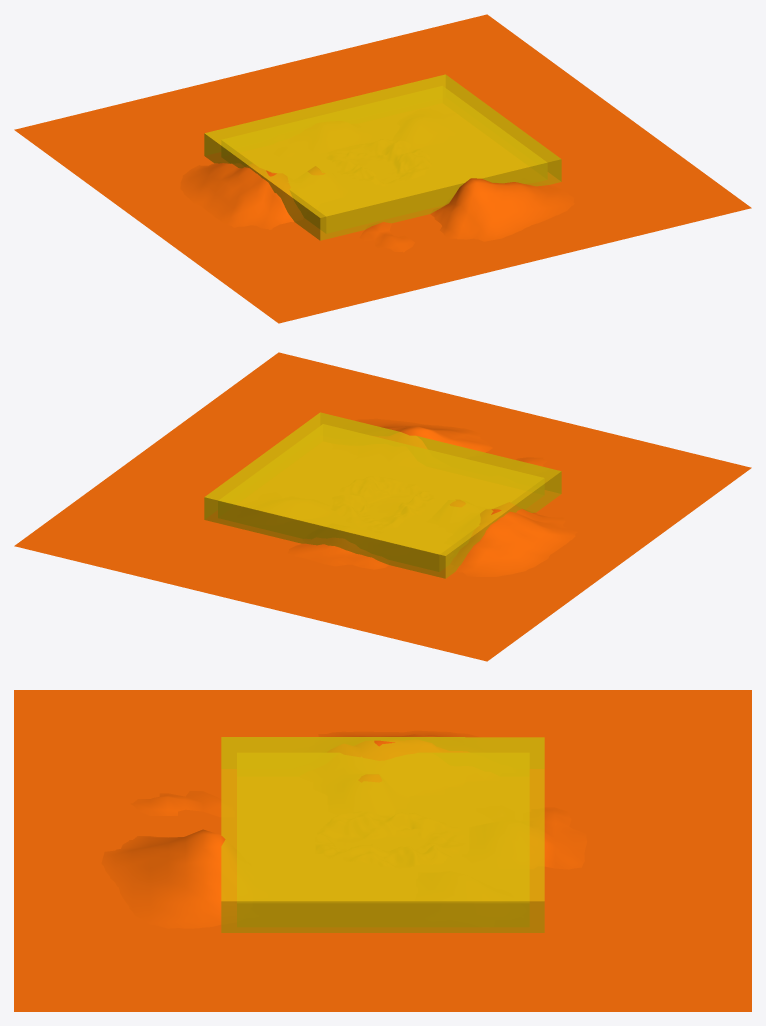
The picture shows the model from 3 angles, top to bottom: view 1: azimuth 30°, elevation 25°; view 2: azimuth 150°, elevation 25°; view 3: azimuth 270°, elevation 25°; orthographic projection. The views are drawn at different scales.
Parts seen in each view (by area): view 1: Plane, Cube, Landscape.1; view 2: Plane, Cube, Landscape.1; view 3: Plane, Cube, Landscape.1.
Boxes of the visible parts, <box> form: Plane: <box>14,14,751,323</box>; Cube: <box>204,74,561,240</box>; Landscape.1: <box>180,162,574,252</box>; Plane: <box>14,352,751,661</box>; Cube: <box>204,412,561,578</box>; Landscape.1: <box>287,418,577,576</box>; Plane: <box>14,690,751,1011</box>; Cube: <box>221,737,544,932</box>; Landscape.1: <box>101,730,586,928</box>.
Size of the model in its own units: 18082 by 2371 by 17517.
